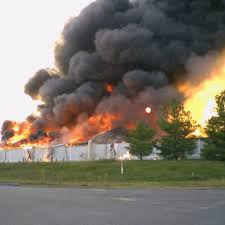smoke: (21, 1, 225, 116)
